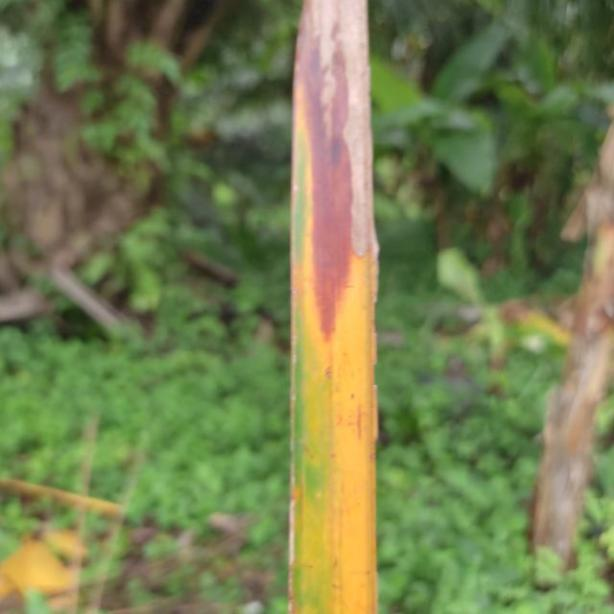Megnesium: (288, 3, 379, 614)
